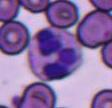N: (28, 29, 82, 80)
